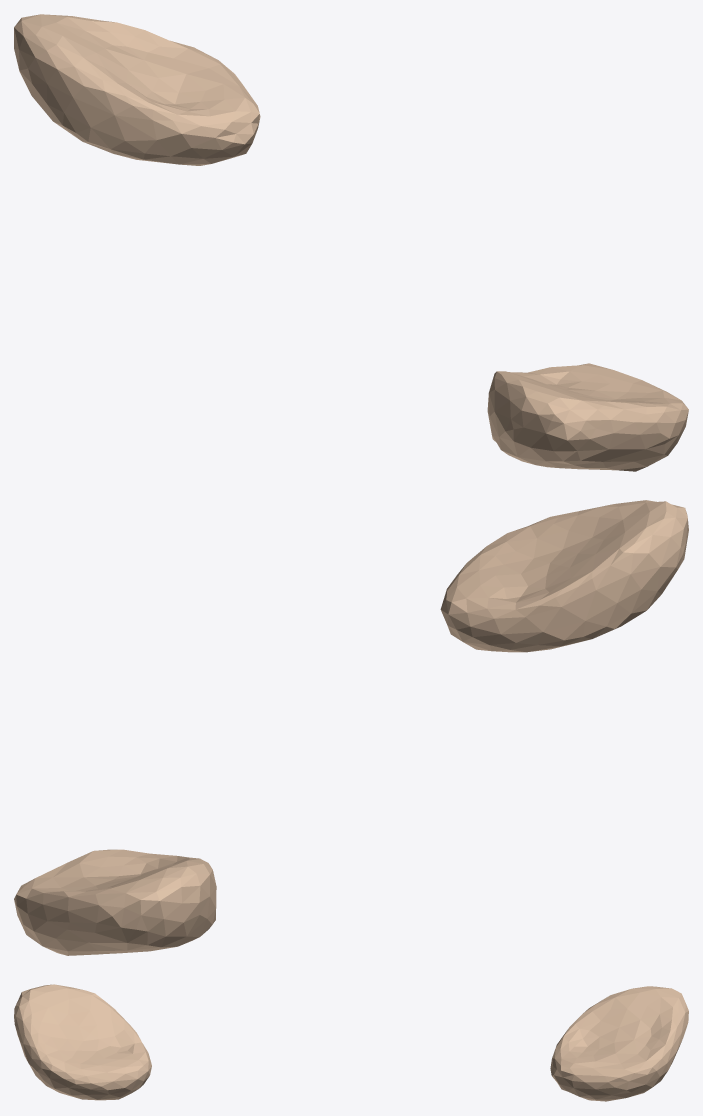
3 renders of one model, top to bottom at view 1: azimuth 30°, elevation 25°; view 2: azimuth 150°, elevation 25°; view 3: azimuth 270°, elevation 25°, orthographic. The views are drawn at different scales.
Visible parts, largest first — view 1: 534.obj; view 2: 534.obj; view 3: 534.obj.
Boxes of the visible parts, x1,y1,x2,y2 form: 534.obj: (14,14,688,471); 534.obj: (14,500,688,955); 534.obj: (14,984,688,1101).
Size of the model in its own units: 774 by 476 by 3862.
